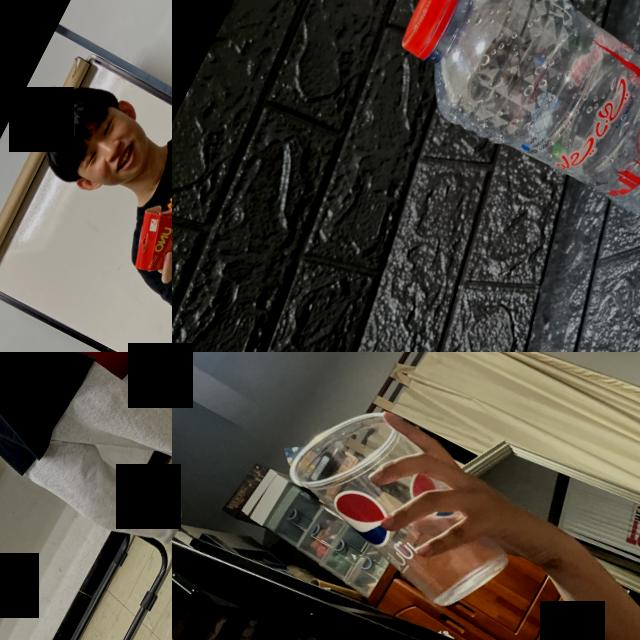bottle: (358, 0, 640, 281)
cup: (264, 384, 546, 627)
